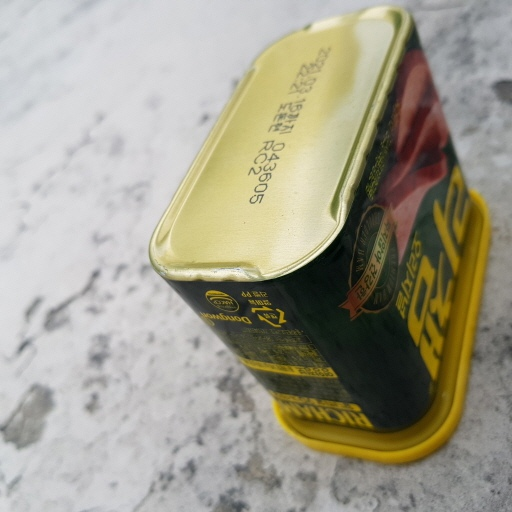Metal_2: (145, 7, 494, 462)
